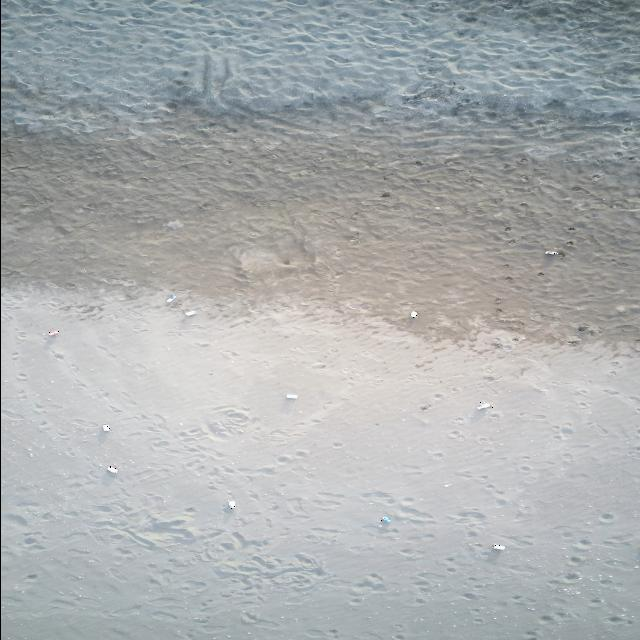Garbage: (165, 220, 183, 228), (544, 248, 559, 255), (167, 292, 176, 303), (476, 402, 492, 408), (107, 464, 116, 473), (380, 515, 390, 523), (492, 544, 504, 550), (48, 329, 59, 335), (227, 500, 235, 508), (287, 392, 296, 399), (101, 424, 110, 431), (184, 311, 196, 316), (409, 310, 416, 318), (380, 191, 390, 196), (568, 226, 575, 230)
